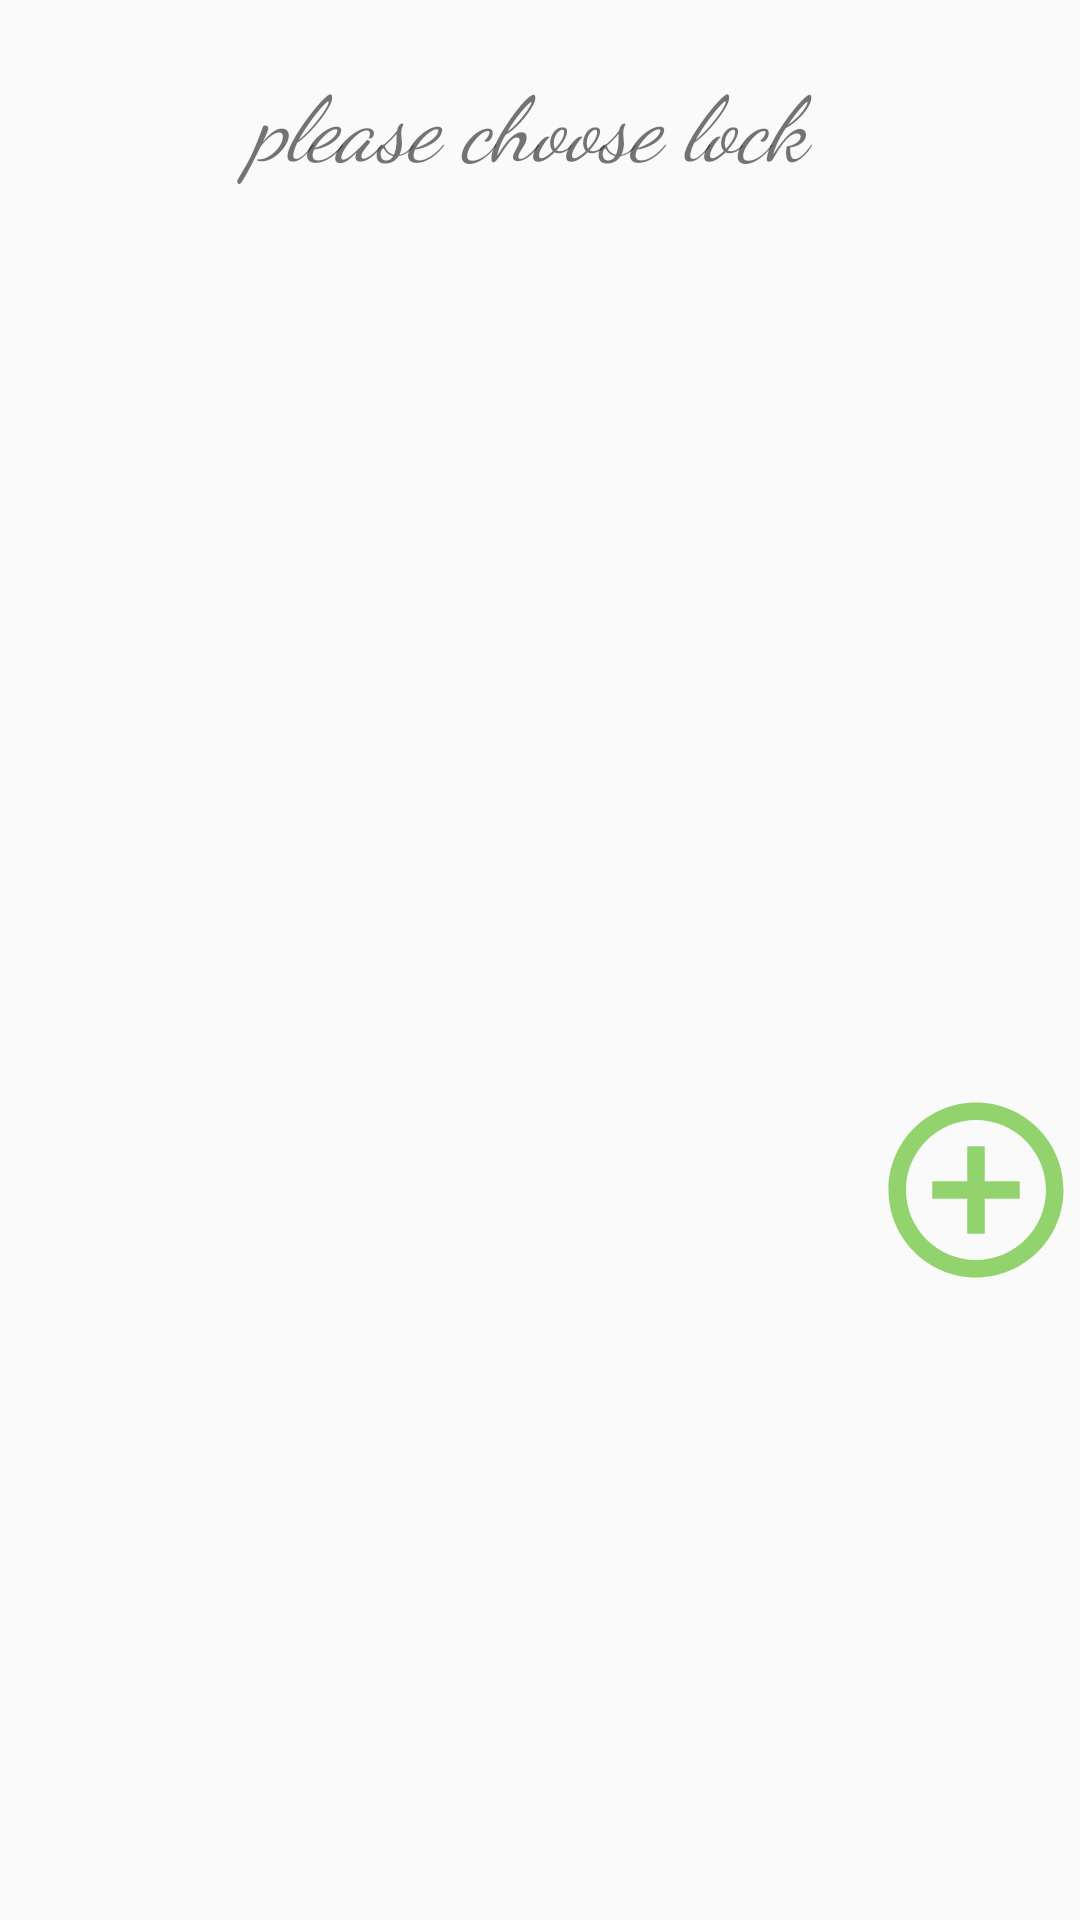

Named icons in this screenshot (1080px×1920px) and their centers, point (x, y):
plus: point (976, 1190)
